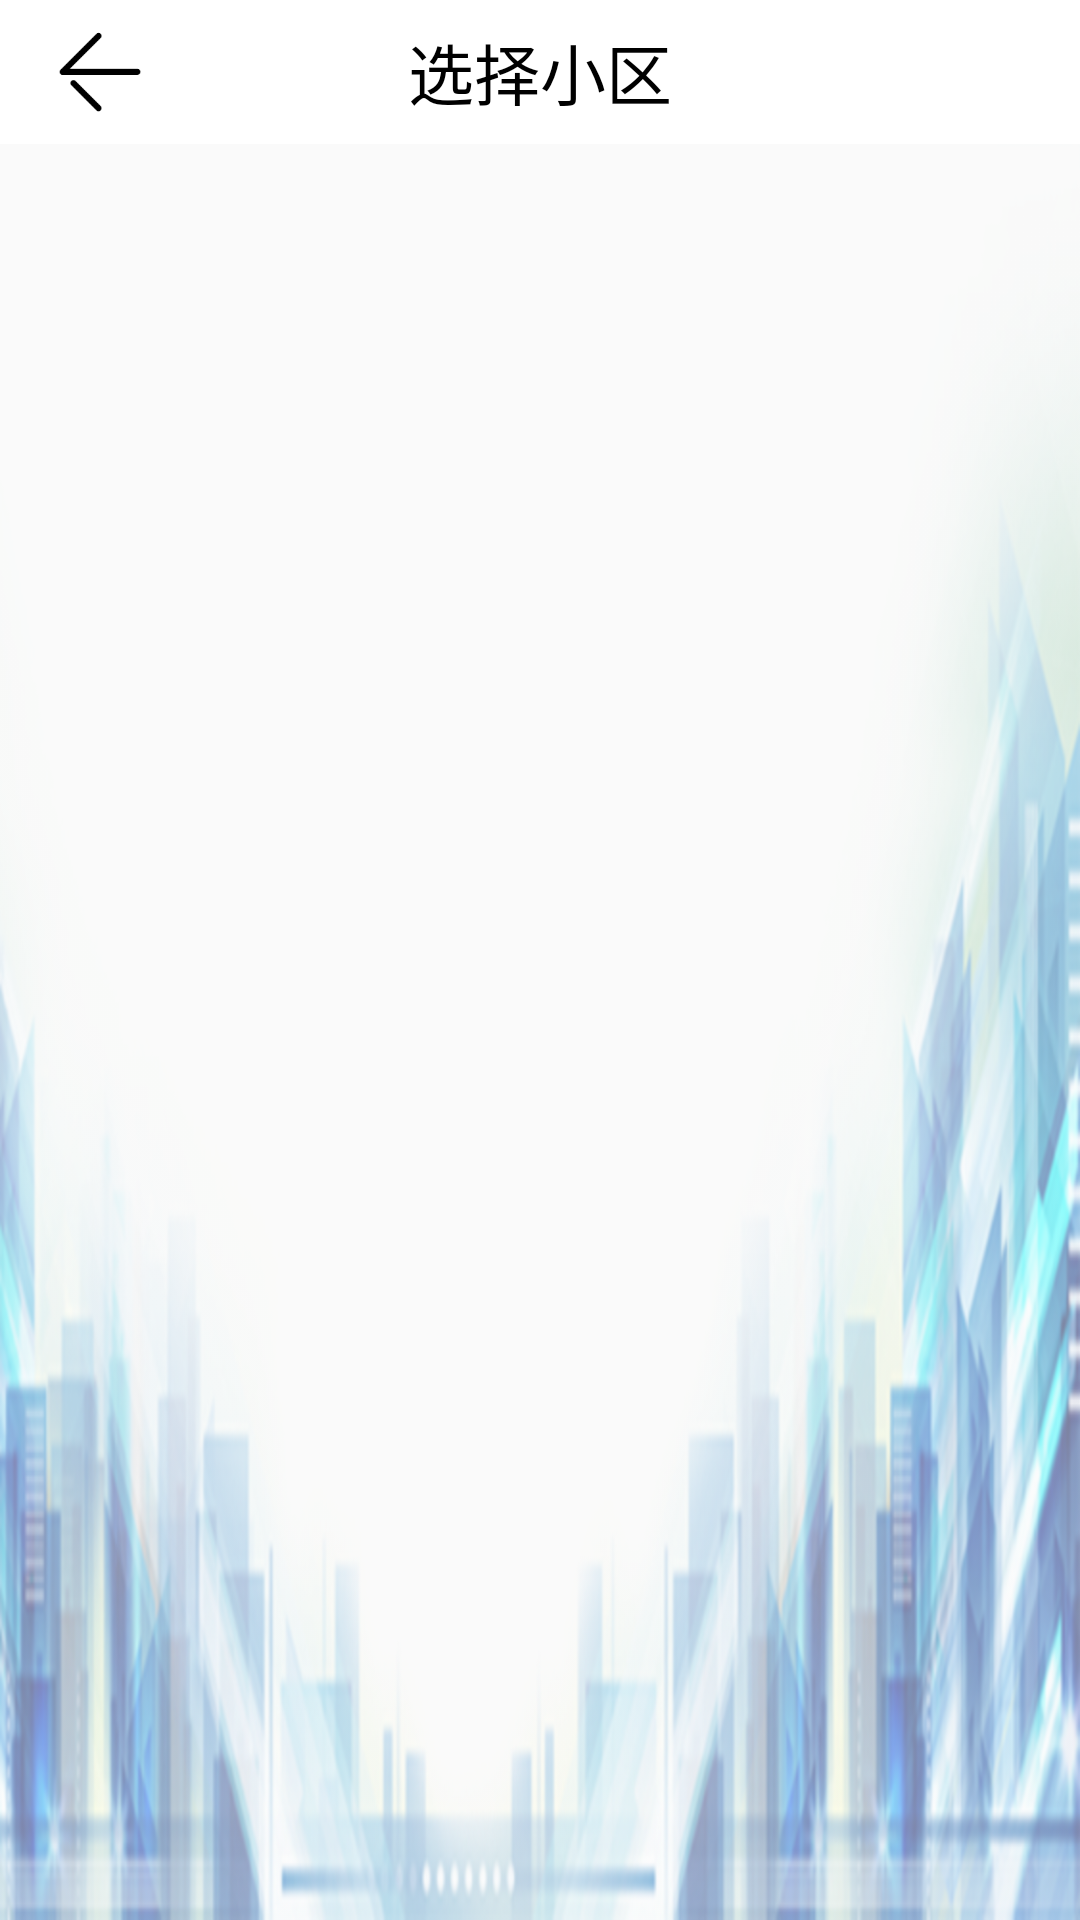

Icons on this 1080 × 1920 Android screen, each with its box as (x1, y1, x2, y2):
back: (59, 32, 141, 112)
